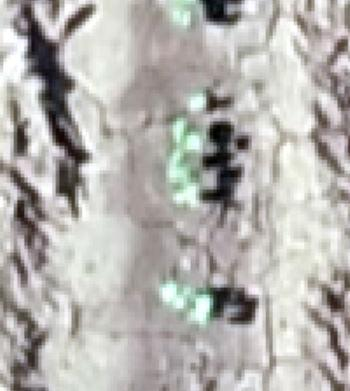cotton: (172, 121, 202, 150), (170, 1, 201, 24), (170, 153, 196, 179), (164, 285, 191, 310), (190, 297, 212, 323), (175, 184, 200, 205), (189, 89, 207, 109)
